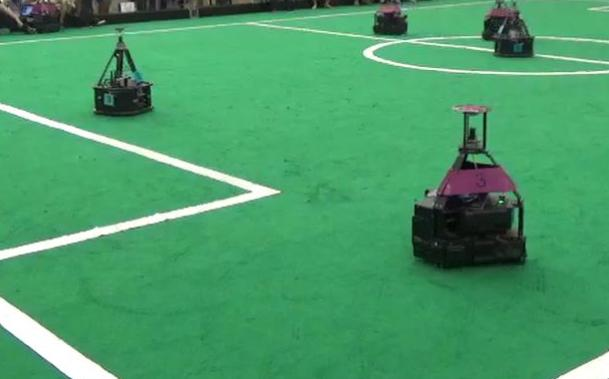robot: (412, 99, 531, 271), (89, 24, 157, 119), (489, 1, 536, 58)
